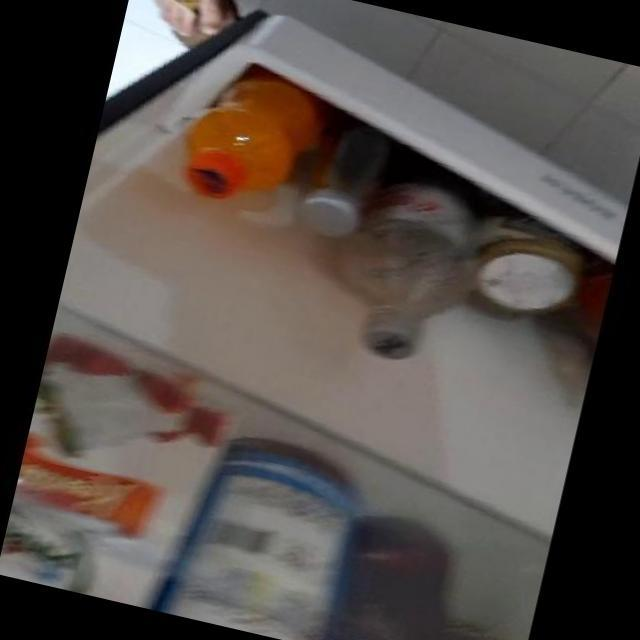cream cheese: (0, 355, 213, 608)
